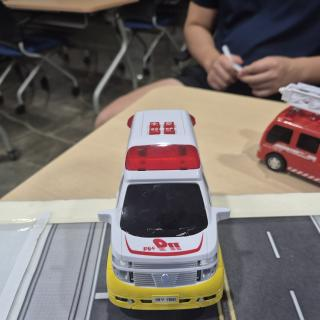Ambulance: (98, 110, 230, 310)
